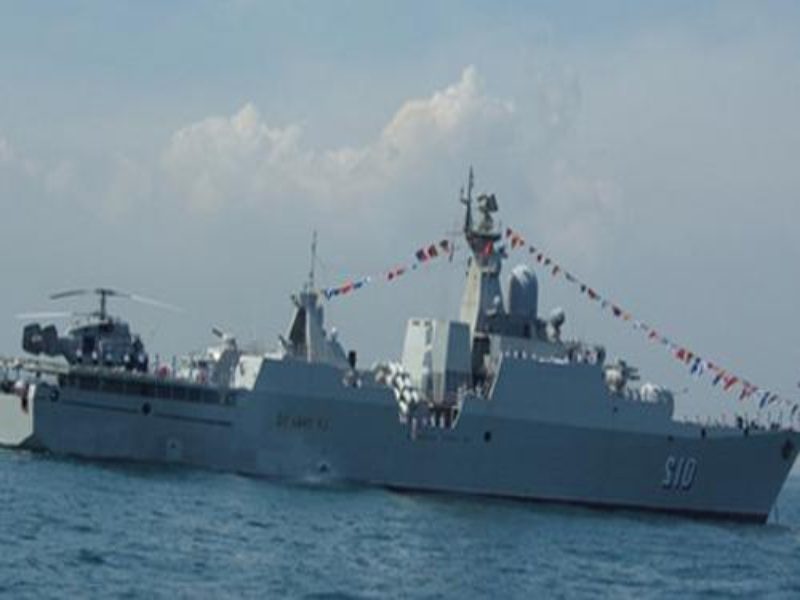cruise: (12, 217, 792, 523)
